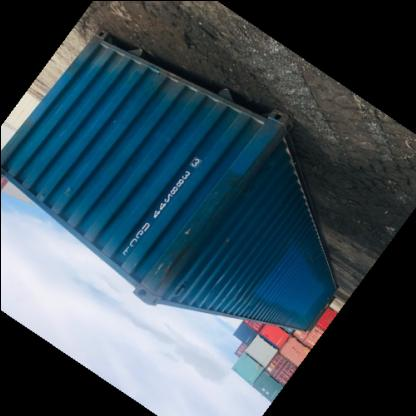Damage: (150, 240, 198, 296), (209, 275, 228, 299), (240, 297, 258, 317)
